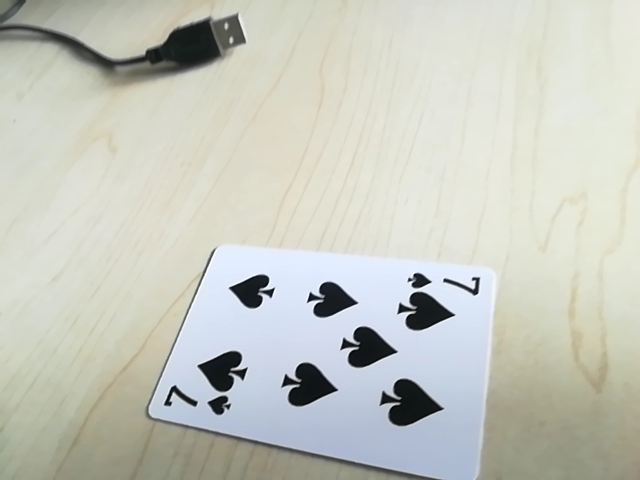ht 7: (404, 266, 484, 298), (155, 389, 229, 420)
